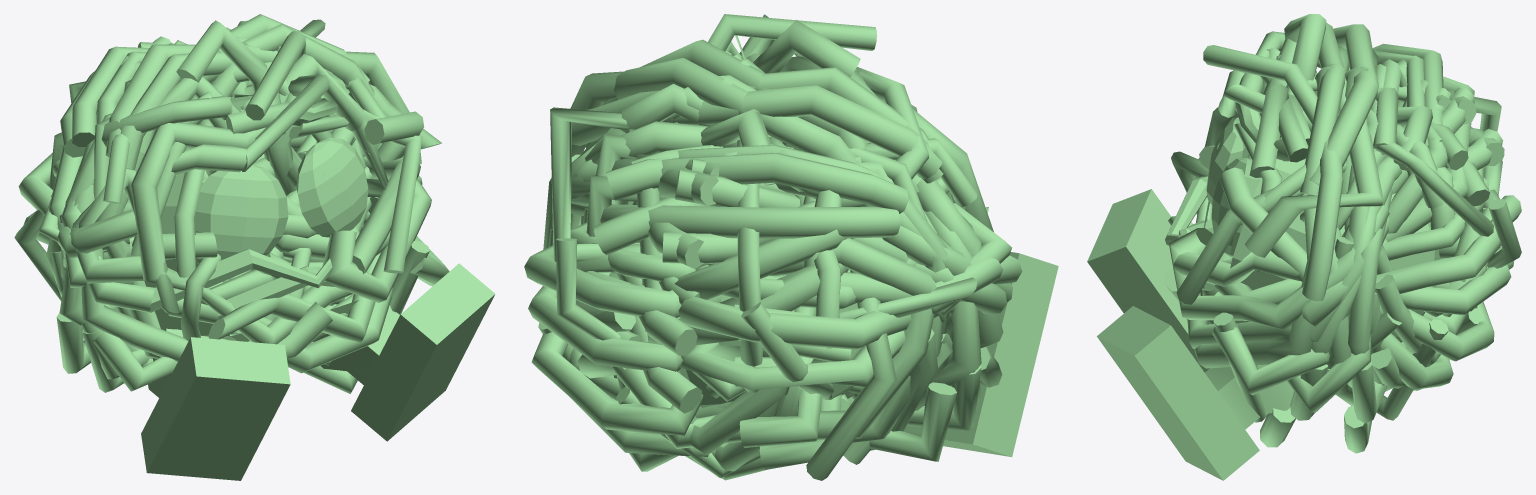
File: tangela.glb
3 views of the same model, side by side, from view 1: azimuth 30°, elevation 25°; view 2: azimuth 150°, elevation 25°; view 3: azimuth 270°, elevation 25° (orthographic). The views are drawn at different scales.
Parts seen in each view (by area): view 1: Node; view 2: Node; view 3: Node.
Part boxes in pixels (x1,y1,x2,y2): Node: (14, 14, 495, 480); Node: (524, 14, 1058, 480); Node: (1087, 14, 1521, 480).
Size of the model in its own units: 7.38 by 7.62 by 7.56.
